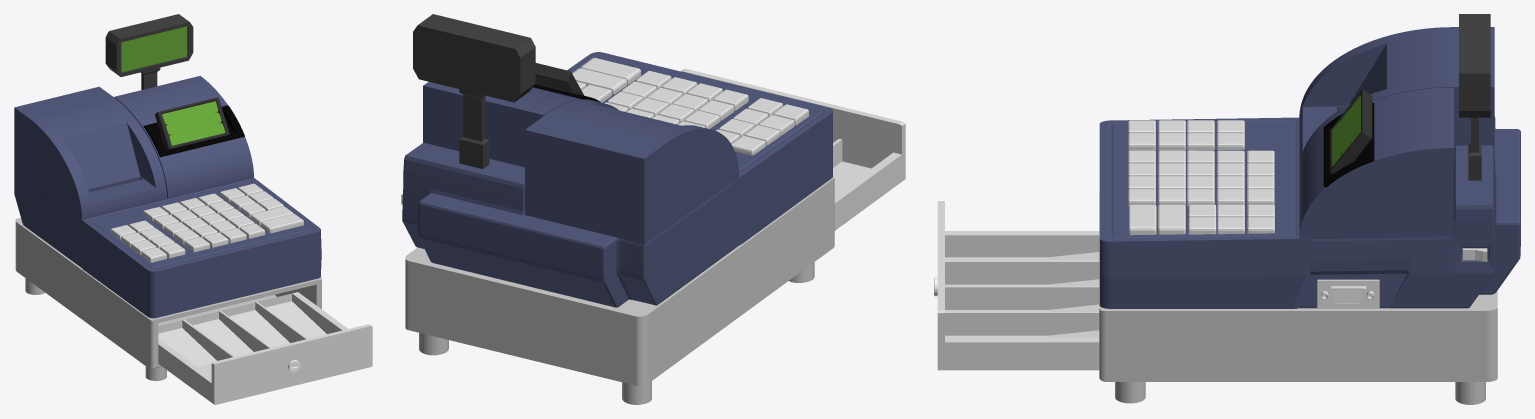
Rendered from cash_register.fbx.
3 renders of one model, left to right at view 1: azimuth 30°, elevation 25°; view 2: azimuth 150°, elevation 25°; view 3: azimuth 270°, elevation 25°, orthographic. The views are drawn at different scales.
Visible parts, largest first — view 1: Cube, Cube.047, Cube.027, Cube.045, Cube.030, Cube.001, layar0, Cube.033, Cube.031, Cube.004, Cube.028, Cube.029 (+5 smaller); view 2: Cube, Cube.045, Cube.027, Cube.001, Cube.047, Cube.030, Cube.028, Cube.029, Cube.004, Cube.043, Cube.042; view 3: Cube, Cube.045, Cube.047, Cube.030, Cube.027, Cube.001, Cube.033, Cube.029, Cube.046, Cube.028, Cube.004, Cube.031 (+2 smaller).
Part boxes in pixels (x1,y1,x2,y2): Cube: (14, 169, 321, 318); Cube.047: (158, 292, 372, 404); Cube.027: (14, 86, 166, 219); Cube.045: (15, 217, 321, 380); Cube.030: (114, 76, 253, 198); Cube.001: (105, 14, 193, 89); layar0: (121, 26, 187, 72); Cube.033: (220, 183, 283, 217); Cube.031: (144, 105, 244, 157); Cube.004: (155, 97, 229, 149); Cube.028: (110, 225, 166, 262); Cube.029: (129, 220, 185, 258); Cube: (402, 52, 832, 307); Cube.045: (405, 176, 834, 404); Cube.027: (525, 99, 739, 245); Cube.001: (413, 14, 535, 168); Cube.047: (681, 69, 905, 230); Cube.030: (423, 82, 588, 167); Cube.028: (731, 104, 808, 155); Cube.029: (716, 98, 783, 143); Cube.004: (535, 63, 583, 95); Cube.043: (581, 58, 640, 84); Cube.042: (572, 68, 626, 94); Cube: (1099, 116, 1520, 308); Cube.045: (1099, 192, 1497, 404); Cube.047: (934, 201, 1099, 370); Cube.030: (1299, 87, 1453, 238); Cube.027: (1299, 27, 1494, 174); Cube.001: (1459, 14, 1490, 180); Cube.033: (1188, 204, 1274, 234); Cube.029: (1128, 133, 1244, 150); Cube.046: (1317, 279, 1379, 308); Cube.028: (1128, 120, 1244, 135); Cube.004: (1330, 89, 1372, 174); Cube.031: (1323, 102, 1374, 187).
Bounding box in the file's own units: 205 × 261 × 409.
